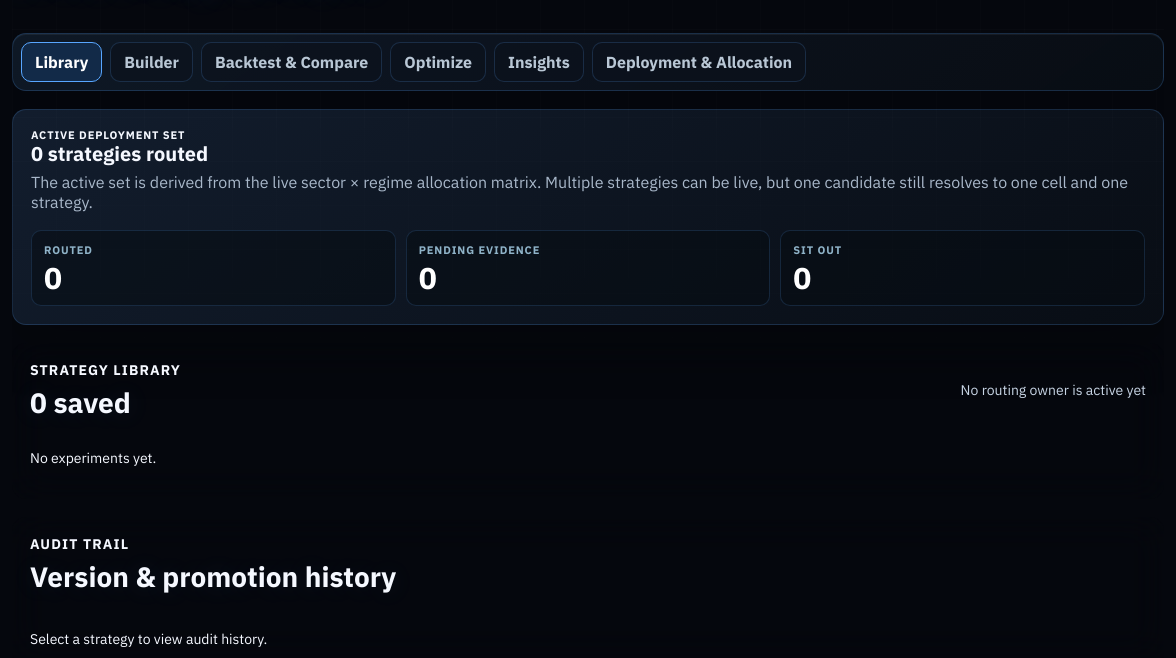
Test case: StrategyLabPage › shows backtest metrics and enables compare mode
The image size is (1176, 658).
Click the button "Backtest & Compare": coordinates (292, 62) [201, 42, 382, 82]
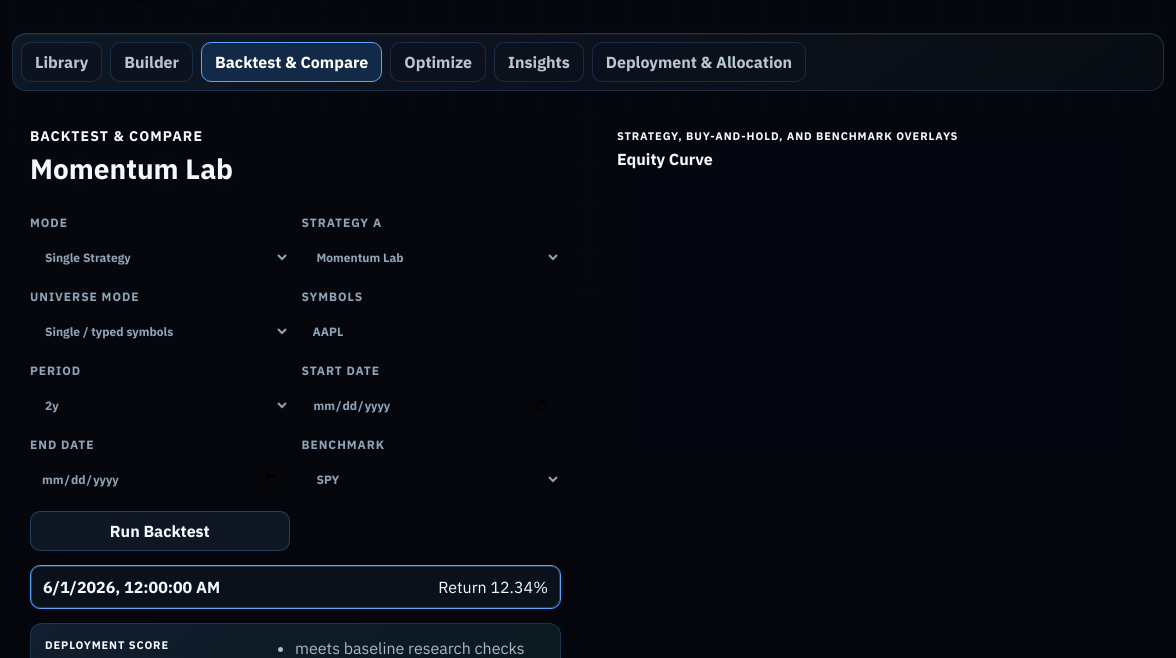
Select "Compare Strategies" in the dropdown labelled "Mode": coordinates (160, 257) [30, 237, 290, 277]
(page scrolled)
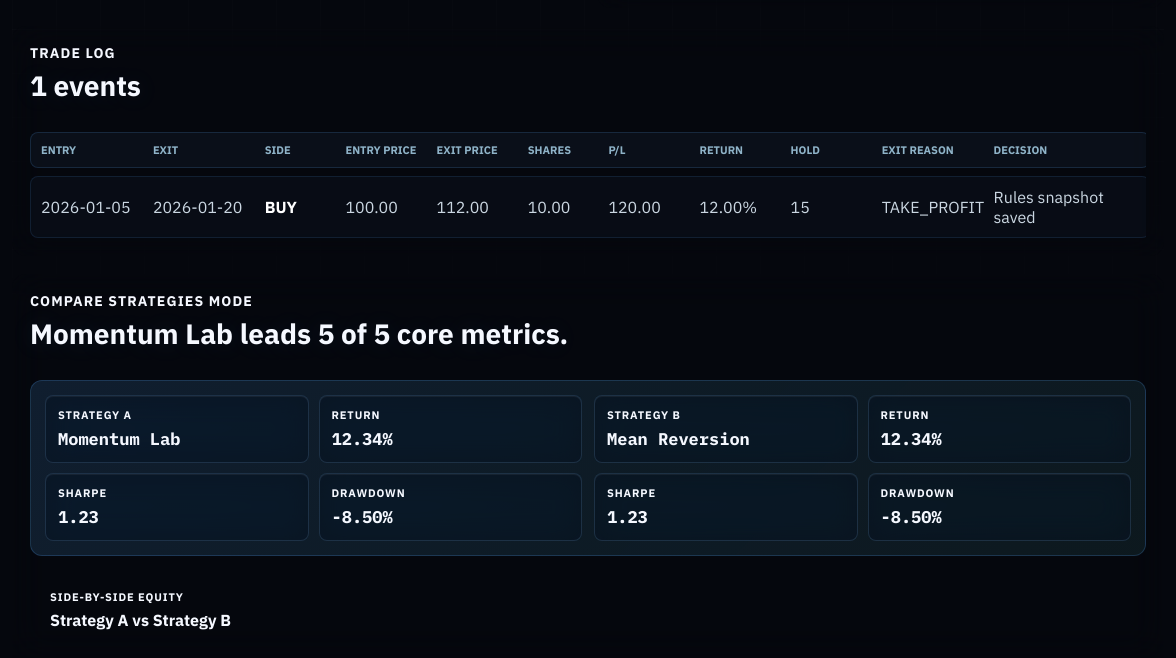
Check: the text "Compare Strategies Mode" is shown, box [30, 292, 253, 310]
